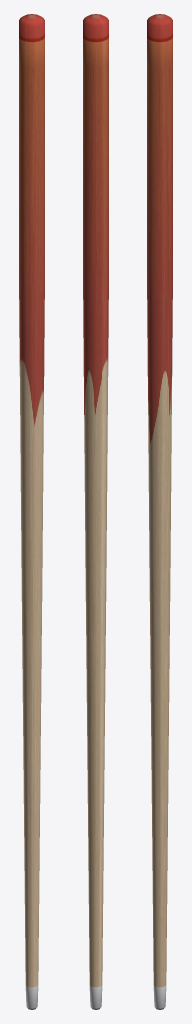
The model's file is gan.fbx.
The picture shows the model from 3 angles, left to right: view 1: azimuth 90°, elevation 25°; view 2: azimuth 210°, elevation 25°; view 3: azimuth 270°, elevation 25°; orthographic projection.
Parts seen in each view (by area): view 1: Cylinder001; view 2: Cylinder001; view 3: Cylinder001.
Boxes of the visible parts, x1=… form: Cylinder001: x1=19, y1=14, x2=44, y2=1009; Cylinder001: x1=83, y1=14, x2=108, y2=1009; Cylinder001: x1=147, y1=14, x2=172, y2=1009.
Bounding box in the file's own units: 24 × 1001 × 24.
Materials: 2 (1 with a texture image).
